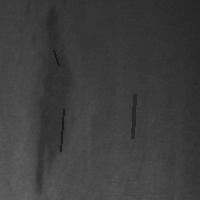inclusion: (33, 3, 76, 197), (58, 107, 65, 153), (130, 92, 136, 140), (51, 48, 60, 67)
